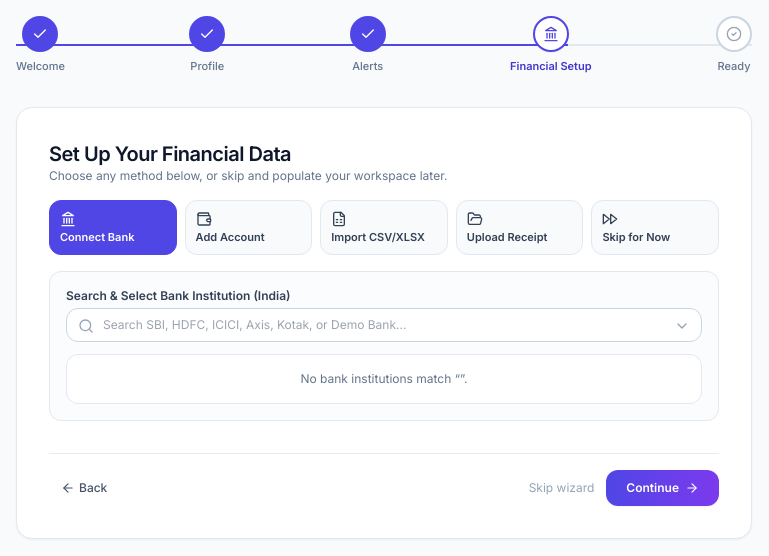
First-Time Onboarding, Bank Catalog & Dashboard Gating › walks through OnboardingWizard Step 4 setup hub to Step 5 initialization
Expected: the heading "Set Up Your Financial Data" is shown, left=49, top=142, right=291, bottom=166
Expected: the button "Connect Bank" is shown, left=49, top=200, right=177, bottom=255
Click the button "Continue" at [663, 488], box left=606, top=470, right=719, bottom=506
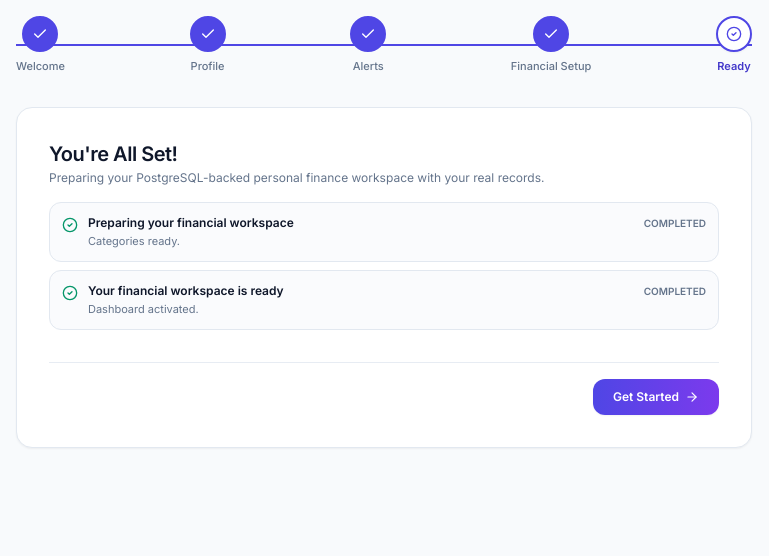
Expected: the text "Preparing your financial workspace" is shown, left=88, top=214, right=294, bottom=230
Expected: the heading "You're All Set!" is shown, left=49, top=142, right=178, bottom=166
